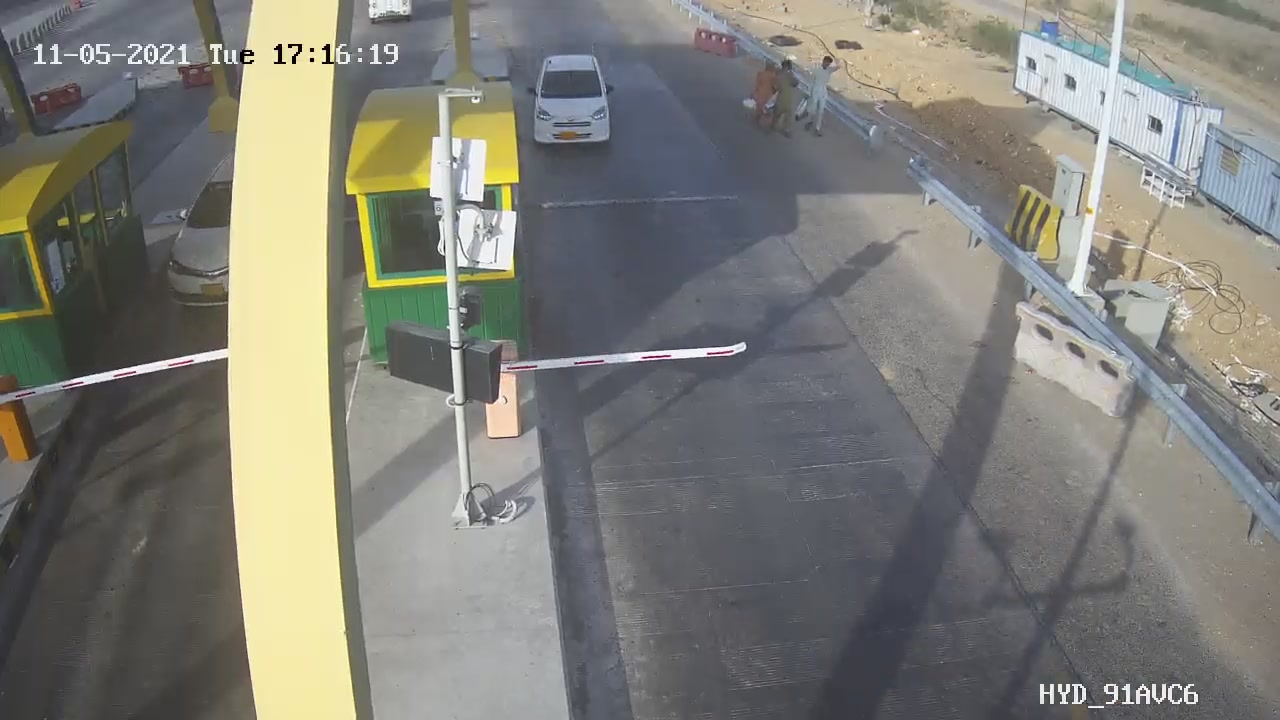F1: (513, 40, 630, 164)
